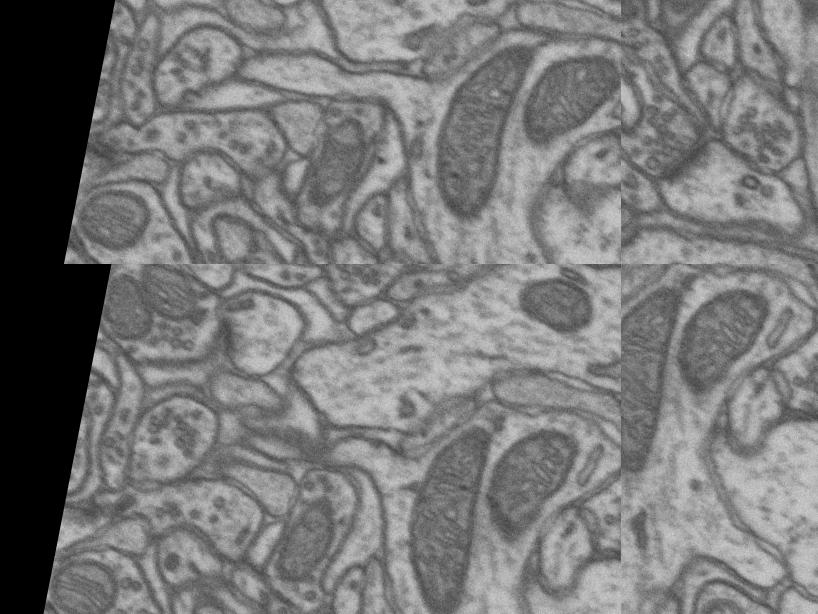mitochondria: (422, 29, 536, 231), (388, 414, 499, 614), (478, 413, 584, 553), (666, 274, 772, 409), (621, 275, 688, 480), (514, 40, 621, 161), (295, 106, 377, 216), (265, 488, 345, 591), (513, 268, 603, 341), (69, 180, 152, 259), (43, 548, 128, 614), (129, 264, 209, 328), (98, 271, 162, 346), (656, 0, 735, 25)
